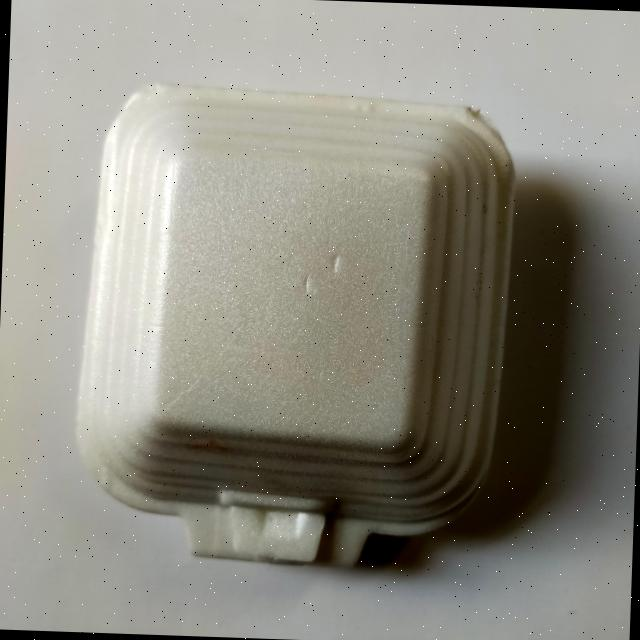styrofoam: (70, 77, 520, 574)
